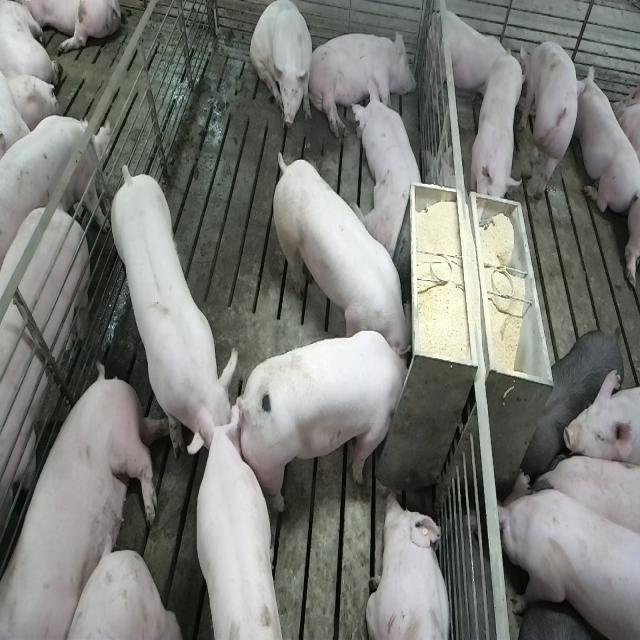Feeding: (244, 330, 418, 513), (267, 143, 411, 359)
Lateral_lying: (307, 28, 417, 141)
Sitting: (250, 1, 314, 134)
Standing: (108, 154, 245, 458), (0, 199, 92, 640), (498, 479, 638, 640), (188, 418, 280, 640), (0, 109, 108, 255), (527, 326, 623, 454), (533, 450, 637, 546), (522, 35, 581, 203), (470, 55, 525, 224)
Sternal_lying: (366, 490, 453, 640), (354, 87, 428, 259), (576, 64, 638, 215), (426, 5, 520, 104)
